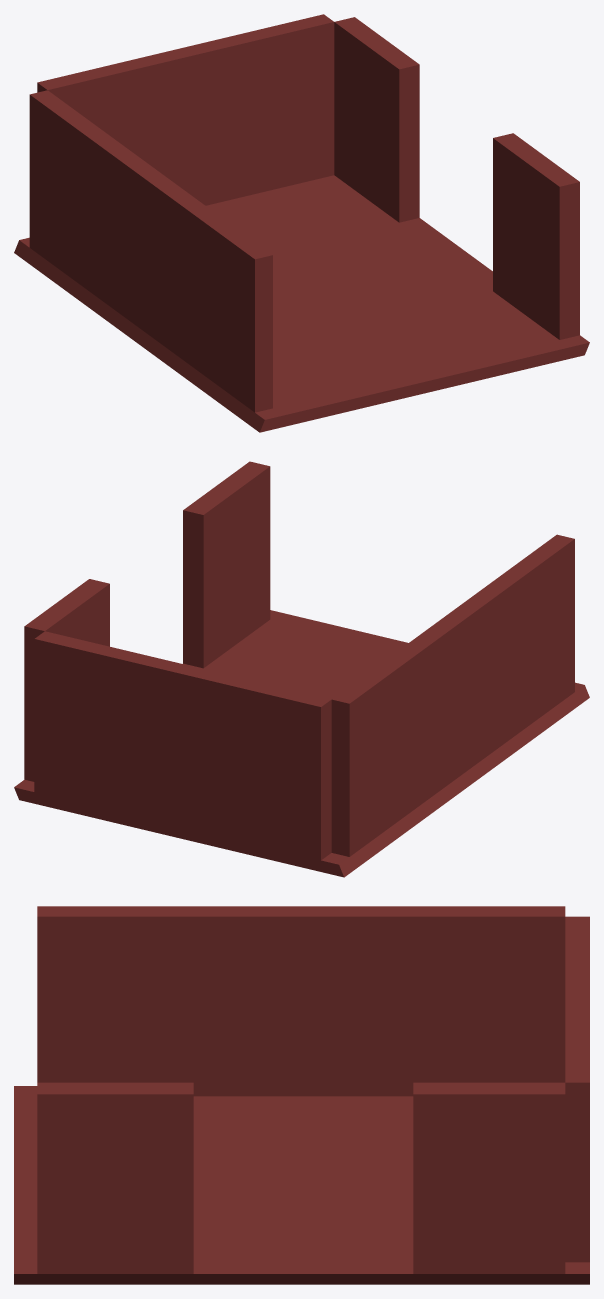
File: Plataforma_Para_Nave_Anim.fbx
3 renders of one model, top to bottom at view 1: azimuth 30°, elevation 25°; view 2: azimuth 150°, elevation 25°; view 3: azimuth 270°, elevation 25°, orthographic. The views are drawn at different scales.
Parts seen in each view (by area): view 1: pCube3; view 2: pCube3; view 3: pCube3.
Boxes of the visible parts, left/top/right/bottom form: pCube3: left=14, top=14, right=589, bottom=432; pCube3: left=14, top=461, right=589, bottom=877; pCube3: left=14, top=906, right=589, bottom=1284.
Bounding box in the file's own units: 14.14 × 6.82 × 18.22.
